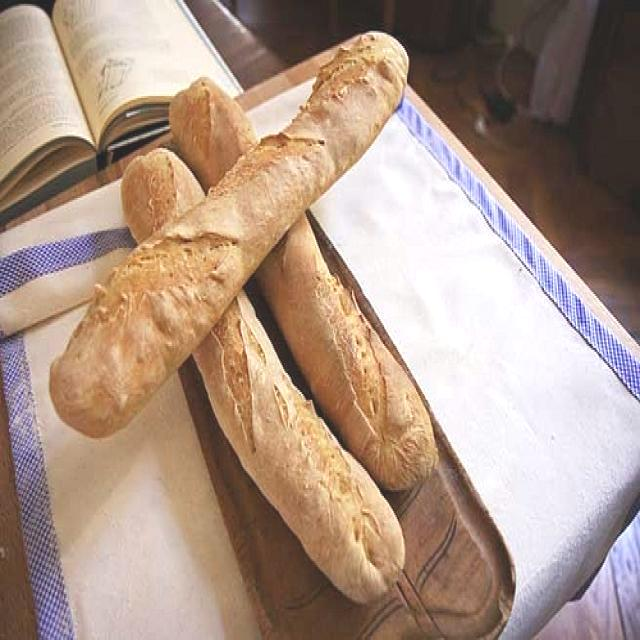Bread: (48, 39, 430, 482)
